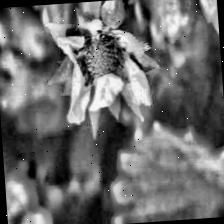Blossom Blight: (70, 27, 132, 89)
